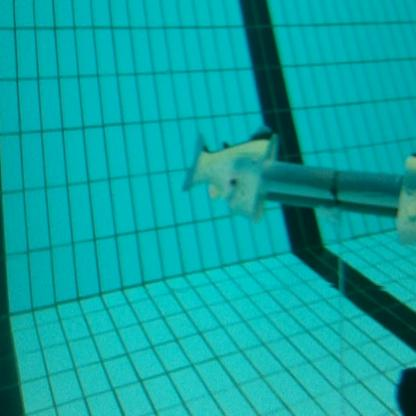tail: (181, 121, 280, 224)
